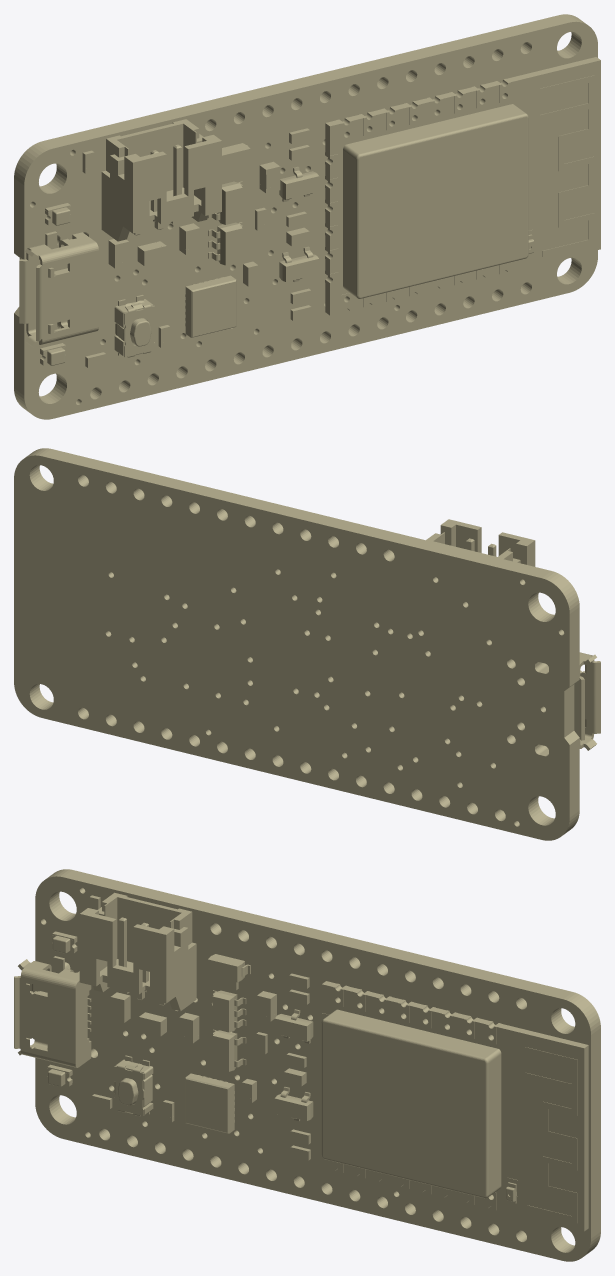
Rendered from Adafruit_Feather_HUZZAH_ESP8266.glb.
The picture shows the model from 3 angles, top to bottom: view 1: azimuth 30°, elevation 25°; view 2: azimuth 150°, elevation 25°; view 3: azimuth 330°, elevation 25°; orthographic projection. The views are drawn at different scales.
Parts seen in each view (by area): view 1: <STL_BINARY>; view 2: <STL_BINARY>; view 3: <STL_BINARY>.
Boxes of the visible parts, x1,y1,x2,y2 form: <STL_BINARY>: [14, 14, 600, 419]; <STL_BINARY>: [14, 448, 600, 840]; <STL_BINARY>: [14, 869, 600, 1261].
Size of the model in its own units: 51.25 by 22.86 by 6.37.
